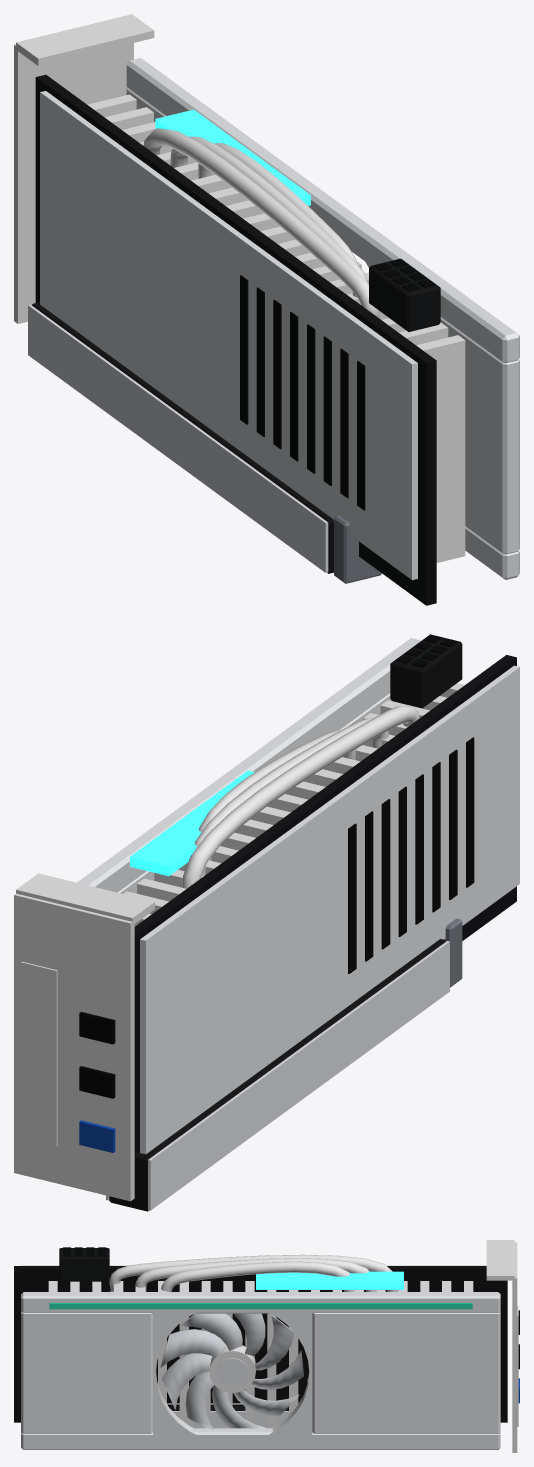
Rendered from hwm_gpu_gtx1060.glb.
3 views of the same model, one above another, from view 1: azimuth 30°, elevation 25°; view 2: azimuth 150°, elevation 25°; view 3: azimuth 270°, elevation 25° (orthographic). The views are drawn at different scales.
Visible parts, largest first — view 1: Card_0, Slot_0; view 2: Card_0, Slot_0; view 3: Card_0, Rotor_X_0, Slot_0.
Part boxes in pixels (x1,y1,x2,y2): Card_0: [14, 14, 519, 605]; Slot_0: [28, 302, 381, 583]; Card_0: [14, 634, 519, 1201]; Slot_0: [106, 918, 462, 1211]; Card_0: [14, 1240, 519, 1452]; Rotor_X_0: [160, 1313, 303, 1429]; Slot_0: [167, 1404, 288, 1428].
Size of the model in its own units: 0.0376 by 0.0916 by 0.2152.
